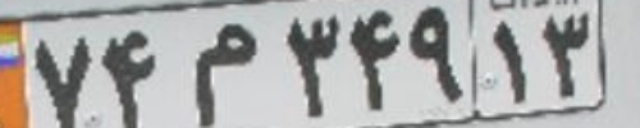1: (489, 20, 526, 103)
3: (286, 12, 340, 117), (541, 11, 592, 97)
4: (100, 29, 156, 127), (348, 9, 401, 110)
7: (32, 35, 90, 127)
9: (409, 5, 465, 101)
mim: (193, 21, 259, 127)
